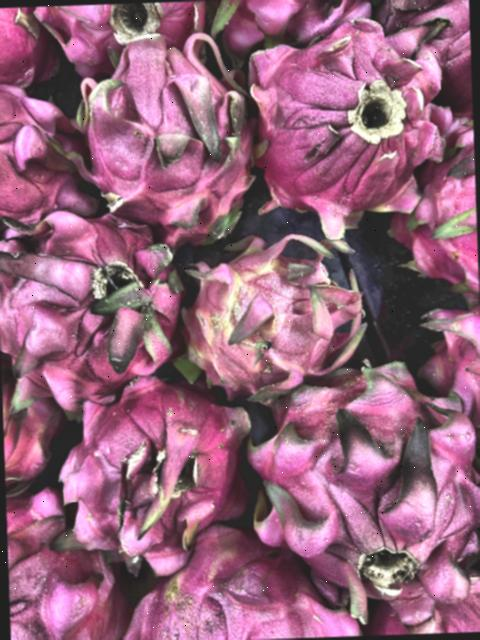buah-naga-belum-matang: (172, 244, 372, 390)
buah-naga-matang: (241, 357, 480, 618), (240, 12, 448, 236), (44, 369, 272, 569), (83, 35, 270, 242), (0, 206, 185, 390), (116, 512, 360, 640), (6, 478, 131, 640), (390, 101, 480, 302), (0, 76, 96, 227), (23, 1, 217, 61), (411, 296, 480, 427), (222, 0, 378, 41)
